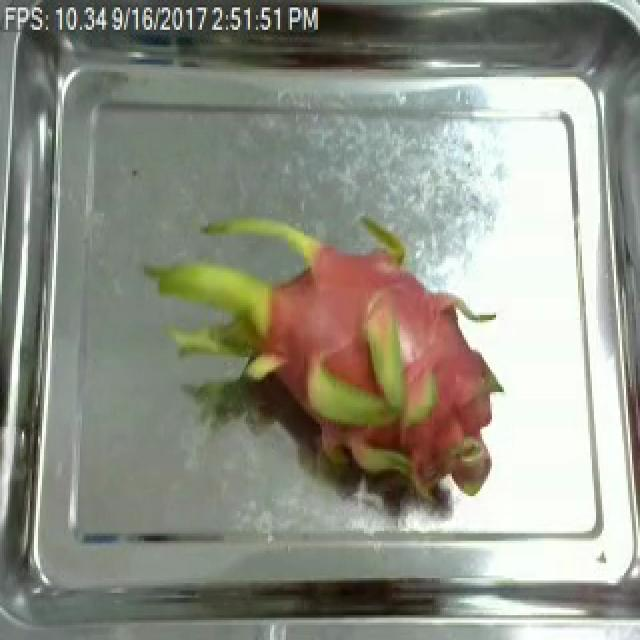fruit: (140, 174, 526, 538)
